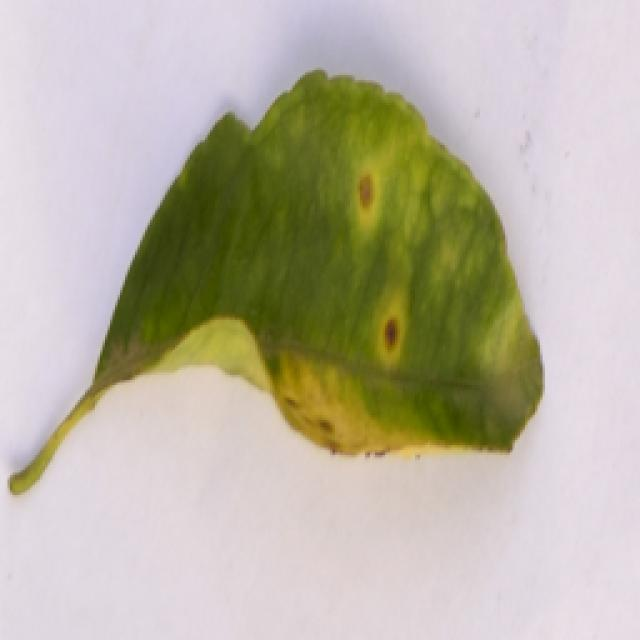canker: (26, 88, 529, 531)
